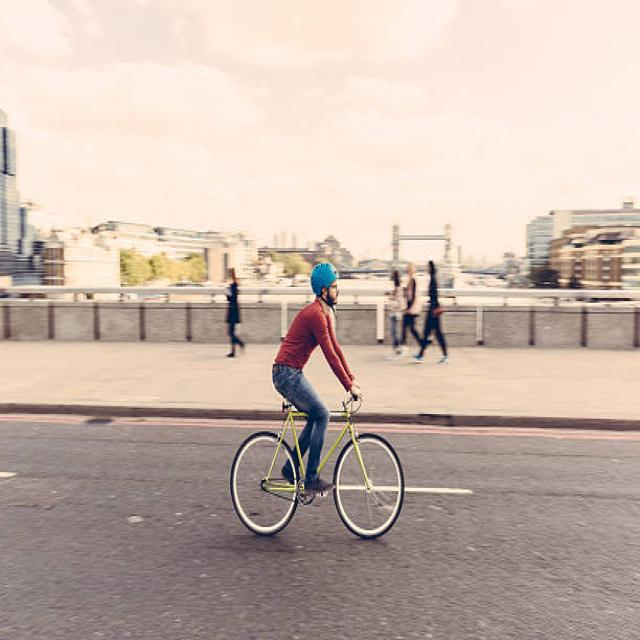bicycle: (231, 262, 404, 538)
